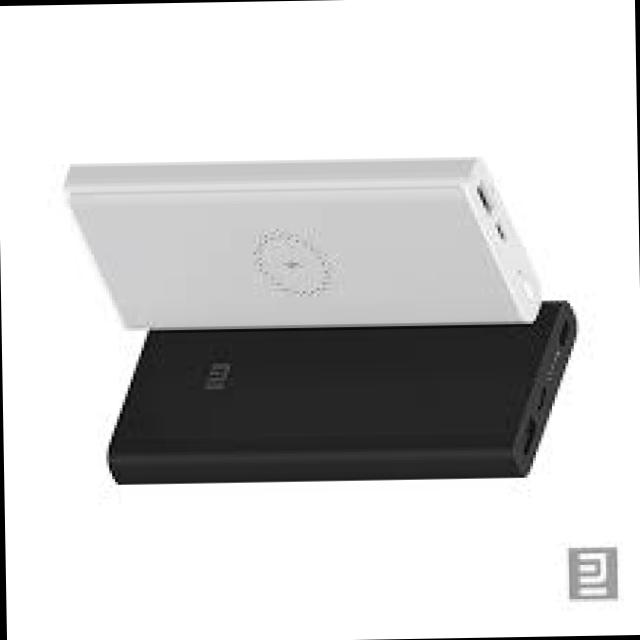power_bank: (100, 295, 589, 493), (62, 156, 544, 334)
